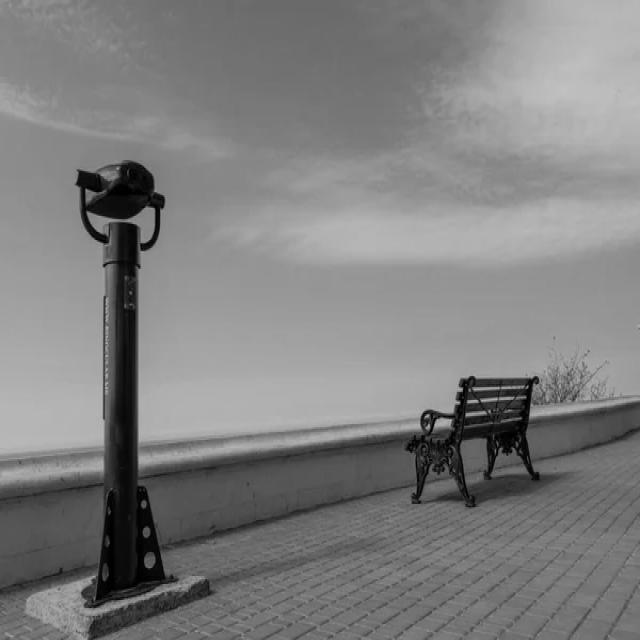Pole: (74, 160, 165, 608)
